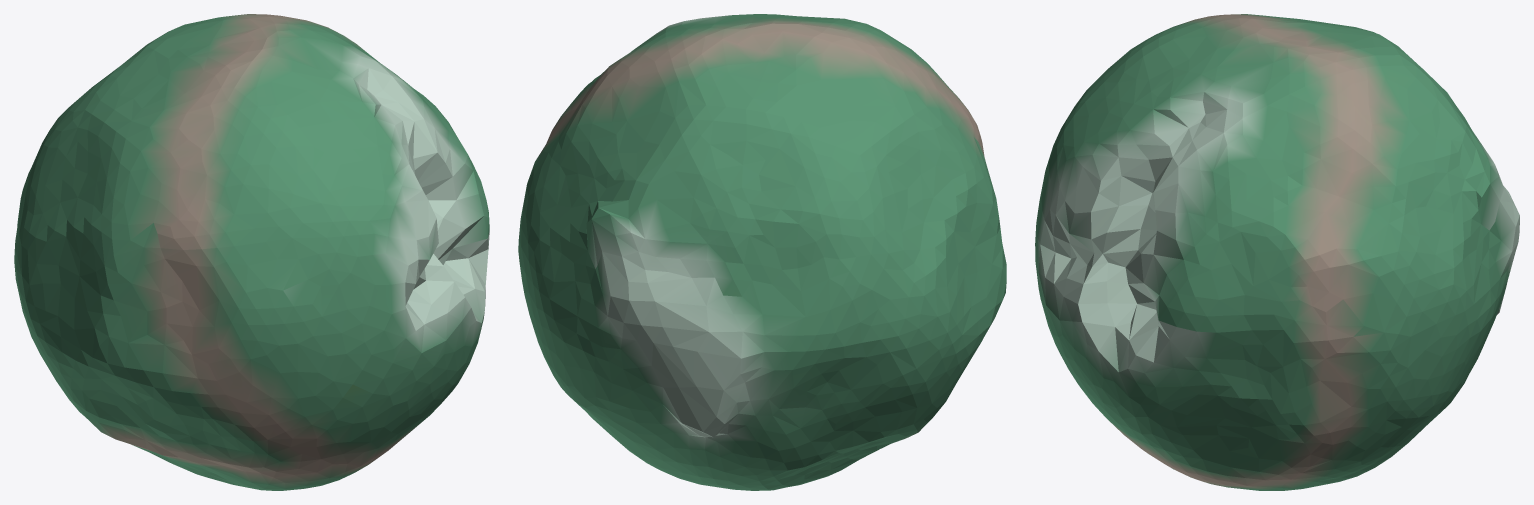
File: Globe.fbx
The picture shows the model from 3 angles, left to right: view 1: azimuth 30°, elevation 25°; view 2: azimuth 150°, elevation 25°; view 3: azimuth 270°, elevation 25°; orthographic projection. The views are drawn at different scales.
Visible parts, largest first — view 1: Icosphere, Icosphere.003, Icosphere.002; view 2: Icosphere, Icosphere.003, Icosphere.002; view 3: Icosphere, Icosphere.003, Icosphere.002.
Part boxes in pixels (x1,y1,x2,y2): Icosphere: (18, 14, 489, 290); Icosphere.003: (14, 191, 489, 441); Icosphere.002: (75, 374, 462, 490); Icosphere: (518, 14, 991, 308); Icosphere.003: (519, 137, 1006, 484); Icosphere.002: (588, 401, 945, 490); Icosphere: (1049, 14, 1518, 344); Icosphere.003: (1035, 148, 1519, 460); Icosphere.002: (1049, 328, 1412, 490).
Bounding box in the file's own units: 196 × 200 × 203.
